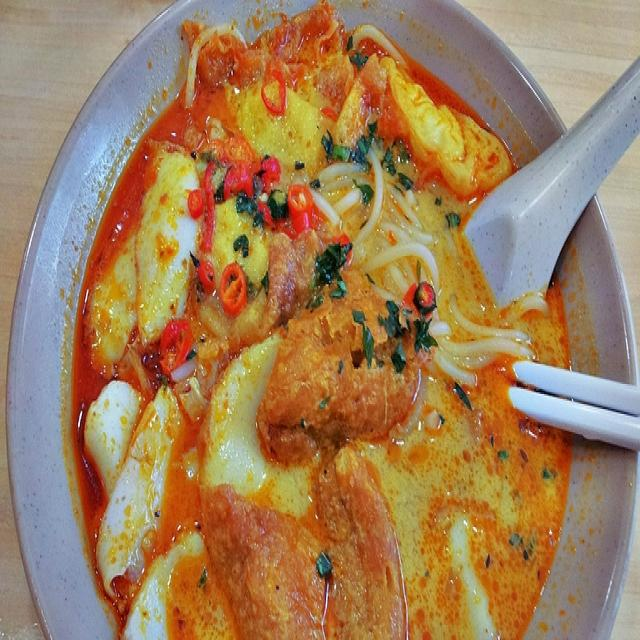面条主食: (24, 27, 602, 625)
